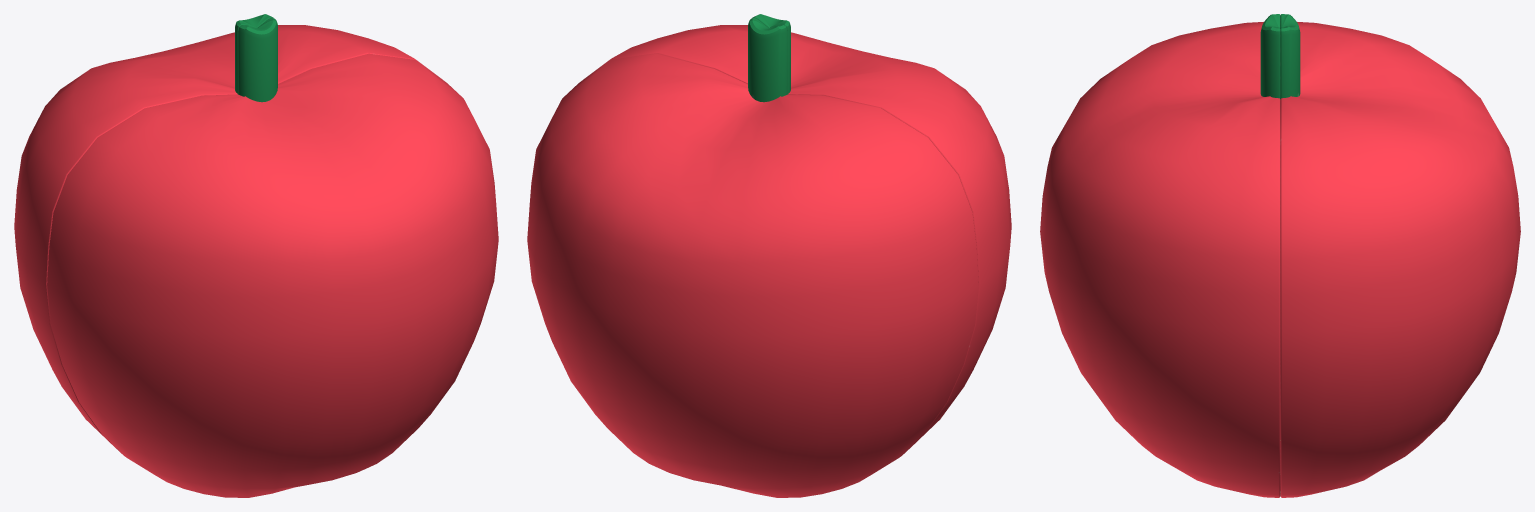
The model's file is AppleToy.fbx.
3 renders of one model, left to right at view 1: azimuth 30°, elevation 25°; view 2: azimuth 150°, elevation 25°; view 3: azimuth 270°, elevation 25°, orthographic.
Visible parts, largest first — view 1: Apple; view 2: Apple; view 3: Apple.
Part boxes in pixels (x1,y1,x2,y2): Apple: (14,14,498,497); Apple: (527,14,1011,497); Apple: (1040,14,1520,497).
Size of the model in its own units: 2.03 by 2.08 by 2.04.
